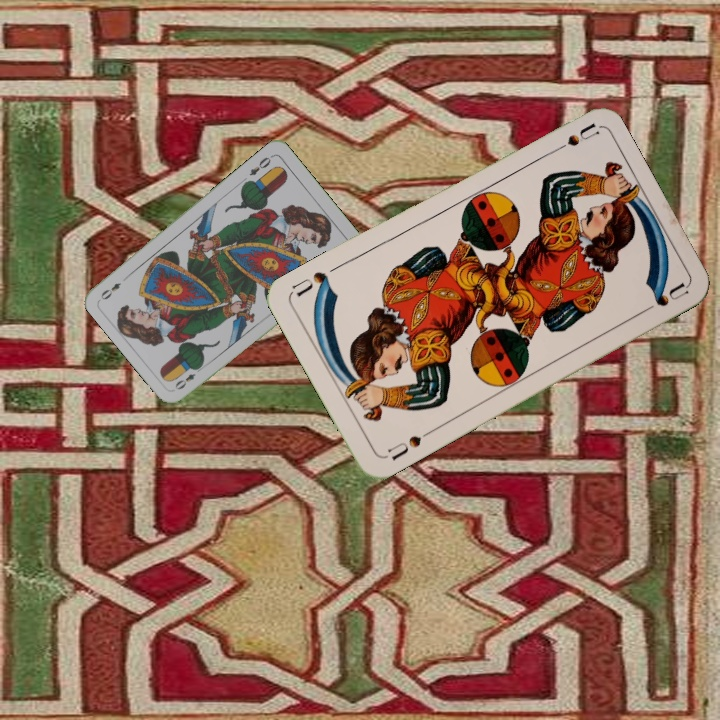EO: (171, 362, 205, 393), (245, 151, 275, 178)
SU: (543, 120, 600, 158), (383, 426, 435, 464)
